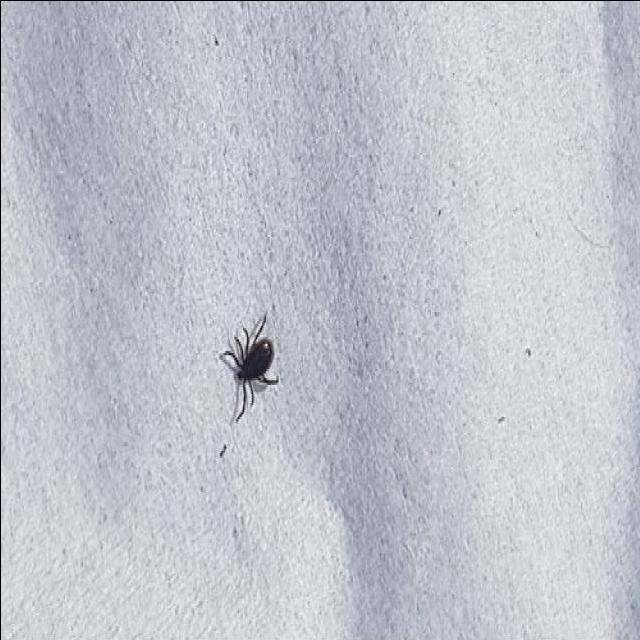Ixodes Ricinus-M: (215, 314, 278, 426)
